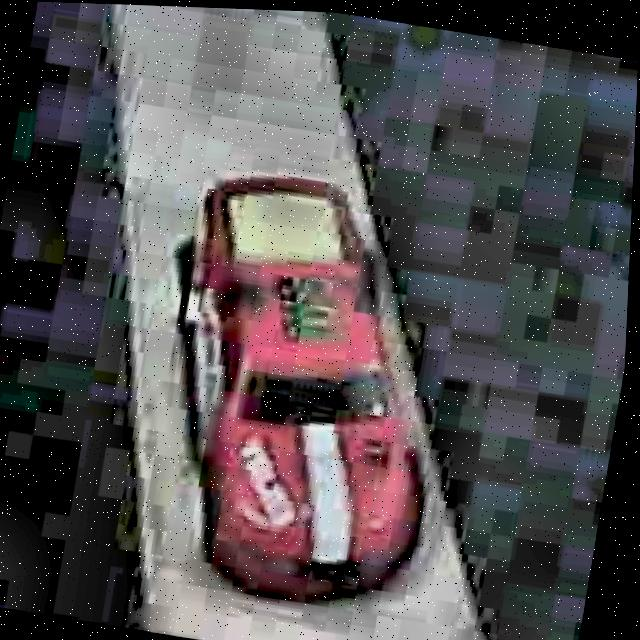car: (116, 152, 483, 632)
